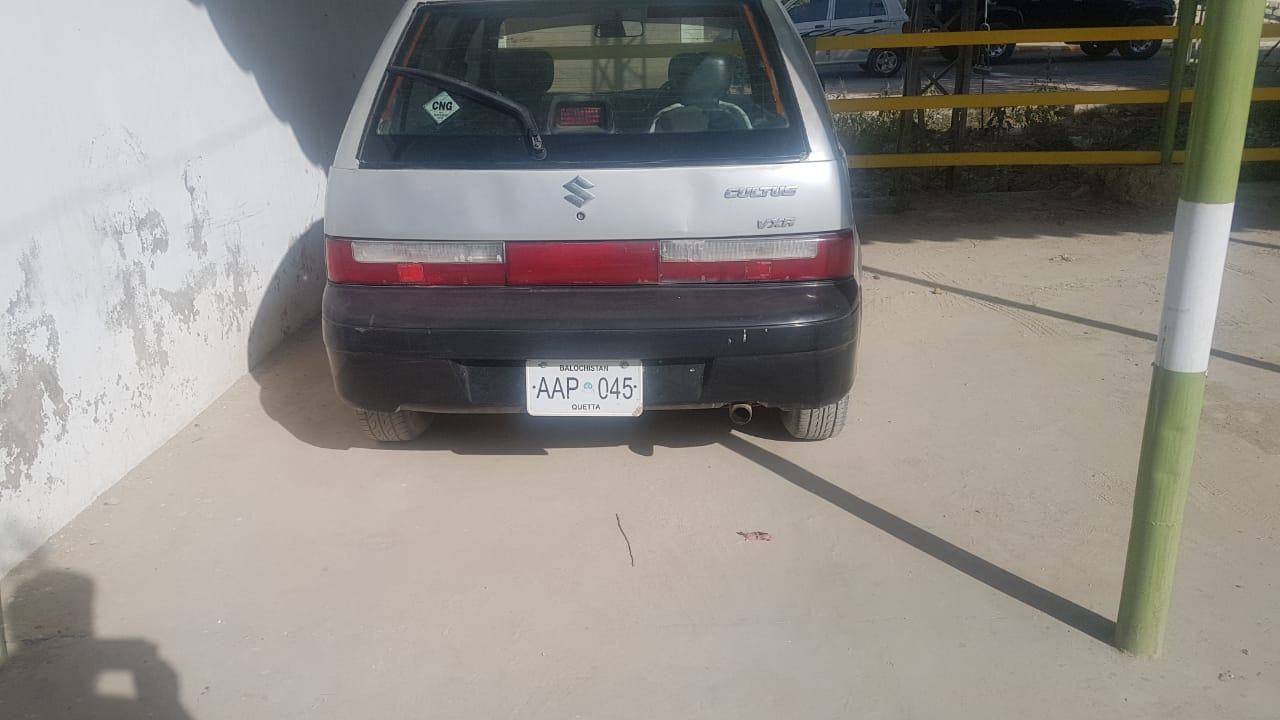license plate: (526, 360, 644, 416)
